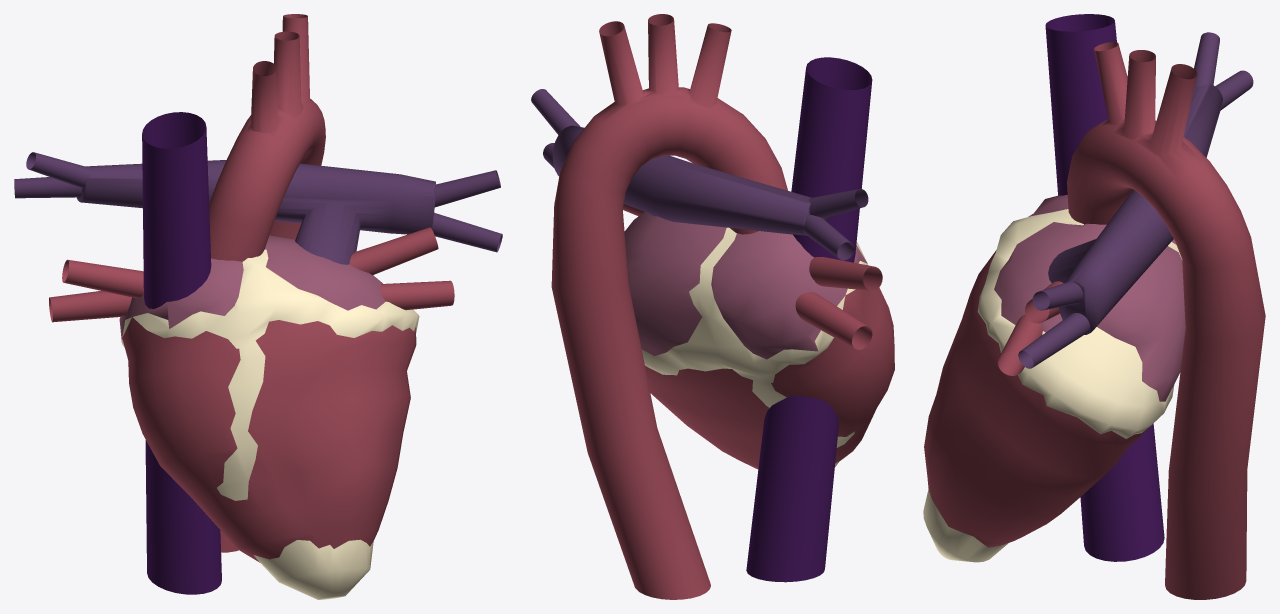
Rendered from heart.dae.
3 views of the same model, side by side, from view 1: azimuth 30°, elevation 25°; view 2: azimuth 150°, elevation 25°; view 3: azimuth 270°, elevation 25° (orthographic). The views are drawn at different scales.
Parts seen in each view (by area): view 1: group_4 (×5), group_0 (×2), group_5, group_7 (×2), group_8 (×2), group_3, group_2, group_11, group_12; view 2: group_0 (×2), group_4 (×4), group_5, group_8, group_7, group_12, group_11, group_2; view 3: group_0 (×2), group_4 (×5), group_5, group_3, group_8, group_11, group_2, group_12, group_7.
Boxes of the visible parts, bbox=[...] form: group_4 (×5): bbox=[119, 235, 419, 599]; group_0 (×2): bbox=[76, 14, 435, 552]; group_5: bbox=[142, 112, 221, 594]; group_7 (×2): bbox=[62, 227, 438, 298]; group_8 (×2): bbox=[49, 280, 454, 322]; group_3: bbox=[432, 212, 502, 252]; group_2: bbox=[433, 170, 500, 207]; group_11: bbox=[26, 152, 93, 188]; group_12: bbox=[14, 177, 82, 198]; group_0 (×2): bbox=[551, 14, 828, 599]; group_4 (×4): bbox=[624, 212, 894, 468]; group_5: bbox=[746, 57, 872, 582]; group_8: bbox=[795, 292, 872, 349]; group_7: bbox=[809, 257, 882, 290]; group_12: bbox=[803, 214, 854, 260]; group_11: bbox=[808, 188, 868, 218]; group_2: bbox=[531, 89, 580, 134]; group_0 (×2): bbox=[1048, 42, 1265, 599]; group_4 (×5): bbox=[923, 195, 1185, 562]; group_5: bbox=[1045, 14, 1164, 561]; group_3: bbox=[1018, 313, 1090, 368]; group_8: bbox=[997, 314, 1042, 375]; group_11: bbox=[1194, 32, 1219, 86]; group_2: bbox=[1032, 281, 1083, 310]; group_12: bbox=[1215, 70, 1253, 110]; group_7: bbox=[1025, 281, 1063, 323].
Size of the model in its own units: 4.16 by 2.89 by 5.14.
